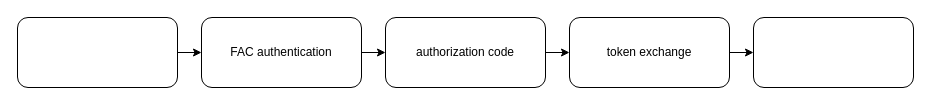
Some shapes in this 931 by 105 pixel diagram are drawn without their labels. Each missing label, with the centre of its shape:
client redirect: (x=97, y=52)
token claim validation: (x=833, y=52)
